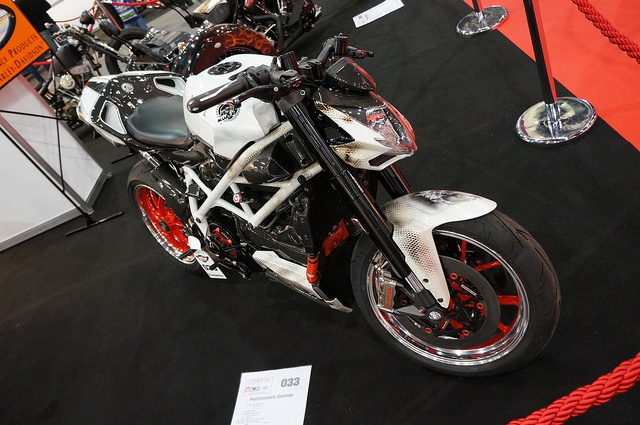non-vehicle: (72, 31, 563, 377), (46, 7, 145, 133), (172, 1, 318, 72)
